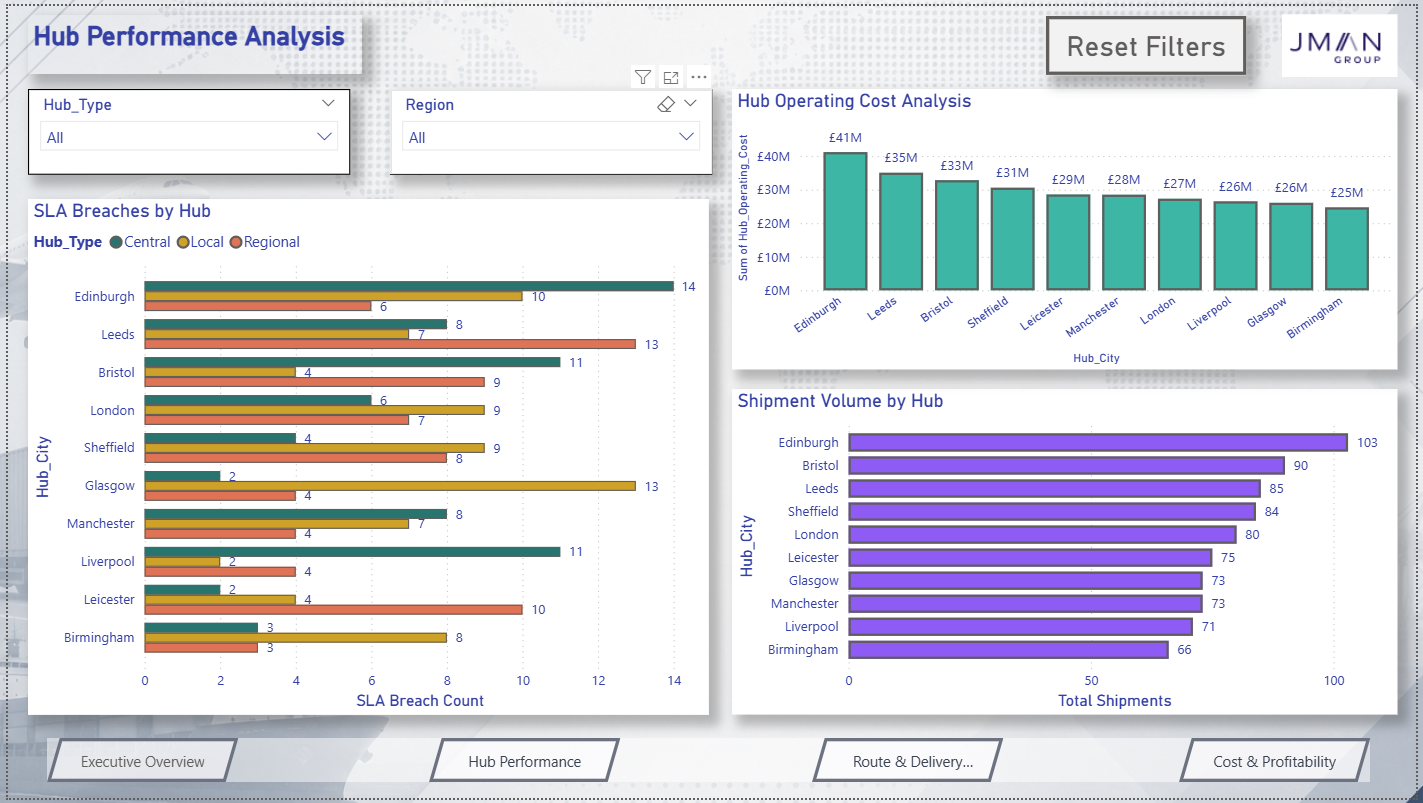

Layout of this report page (visuals, bound fields, positions):
{"tool":"powerbi","page":{"name":"Hub Performance","canvas":[1280,720],"ordinal":1},"visuals":[{"type":"clusteredBarChart","title":"Shipment Volume by Hub","fields":{"Category":["Dim_hub.Hub_City"],"Y":["Fact_Shipments.Total Shipments"]},"box":[658,348,605,296],"z":0},{"type":"clusteredBarChart","title":"SLA Breaches by Hub","fields":{"Category":["Dim_hub.Hub_City"],"Y":["Fact_Shipments.SLA Breach Count"],"Series":["Dim_hub.Hub_Type"]},"box":[18,175,619,469],"z":2000},{"type":"clusteredColumnChart","title":"Hub Operating Cost Analysis","fields":{"Category":["Dim_hub.Hub_City"],"Y":["Sum(Dim_hub.Hub_Operating_Cost)"]},"box":[658,75,605,255],"z":3000},{"type":"group","id":"g1","title":"Group 1","box":[35,665,1203,40],"z":4000},{"type":"textbox","box":[18,8,304,54],"z":5000},{"type":"actionButton","box":[35,665,174,40],"z":5000,"group":"g1"},{"type":"slicer","fields":{"Values":["Dim_hub.Hub_Type"]},"box":[18,75,293,78],"z":6000},{"type":"actionButton","box":[382,665,174,40],"z":6000,"group":"g1"},{"type":"slicer","fields":{"Values":["Dim_hub.Region"]},"box":[347,75,293,78],"z":7000},{"type":"actionButton","box":[730,665,174,40],"z":7000,"group":"g1"},{"type":"actionButton","box":[943.8,9.4,182.2,53.5],"z":8000},{"type":"actionButton","box":[1064,665,174,40],"z":8000,"group":"g1"},{"type":"image","box":[1157.9,4.7,105.2,62.9],"z":8001}]}

Visuals, with their boxes in screenshot pixels (x1, y1, x2, y2), scaled from the page's 1280x720 canvas onto the 1423x803 screenshot:
"Shipment Volume by Hub" clusteredBarChart: {"x1": 732, "y1": 388, "x2": 1404, "y2": 718}
"SLA Breaches by Hub" clusteredBarChart: {"x1": 20, "y1": 195, "x2": 708, "y2": 718}
"Hub Operating Cost Analysis" clusteredColumnChart: {"x1": 732, "y1": 84, "x2": 1404, "y2": 368}
"Group 1" group: {"x1": 39, "y1": 742, "x2": 1376, "y2": 786}
textbox: {"x1": 20, "y1": 9, "x2": 358, "y2": 69}
actionButton: {"x1": 39, "y1": 742, "x2": 232, "y2": 786}
slicer - Dim_hub.Hub_Type: {"x1": 20, "y1": 84, "x2": 346, "y2": 171}
actionButton: {"x1": 425, "y1": 742, "x2": 618, "y2": 786}
slicer - Dim_hub.Region: {"x1": 386, "y1": 84, "x2": 712, "y2": 171}
actionButton: {"x1": 812, "y1": 742, "x2": 1005, "y2": 786}
actionButton: {"x1": 1049, "y1": 10, "x2": 1252, "y2": 70}
actionButton: {"x1": 1183, "y1": 742, "x2": 1376, "y2": 786}
image: {"x1": 1287, "y1": 5, "x2": 1404, "y2": 75}
